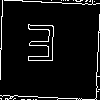E: (24, 24, 58, 72)
